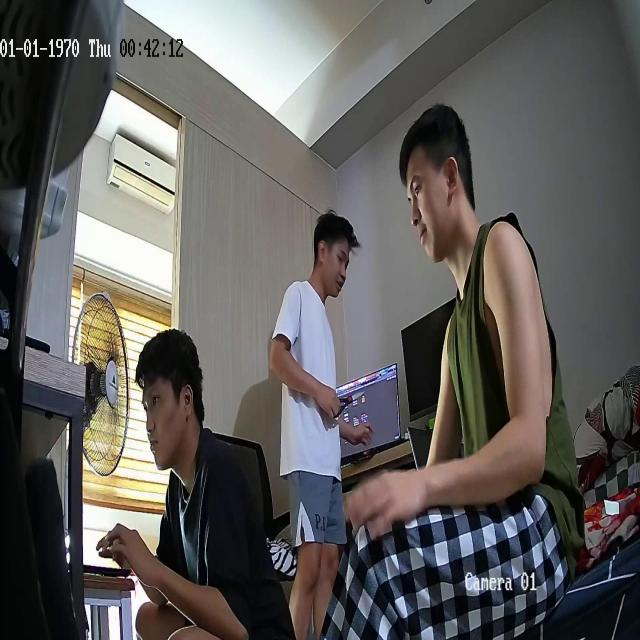scissor: (334, 391, 365, 417)
